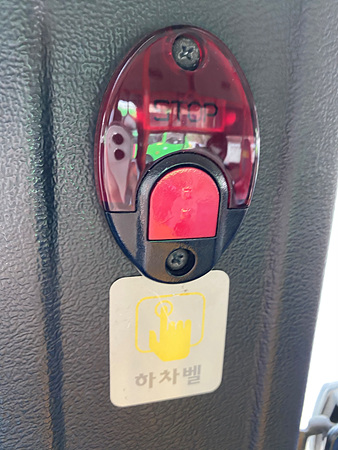bell: (92, 24, 261, 283)
